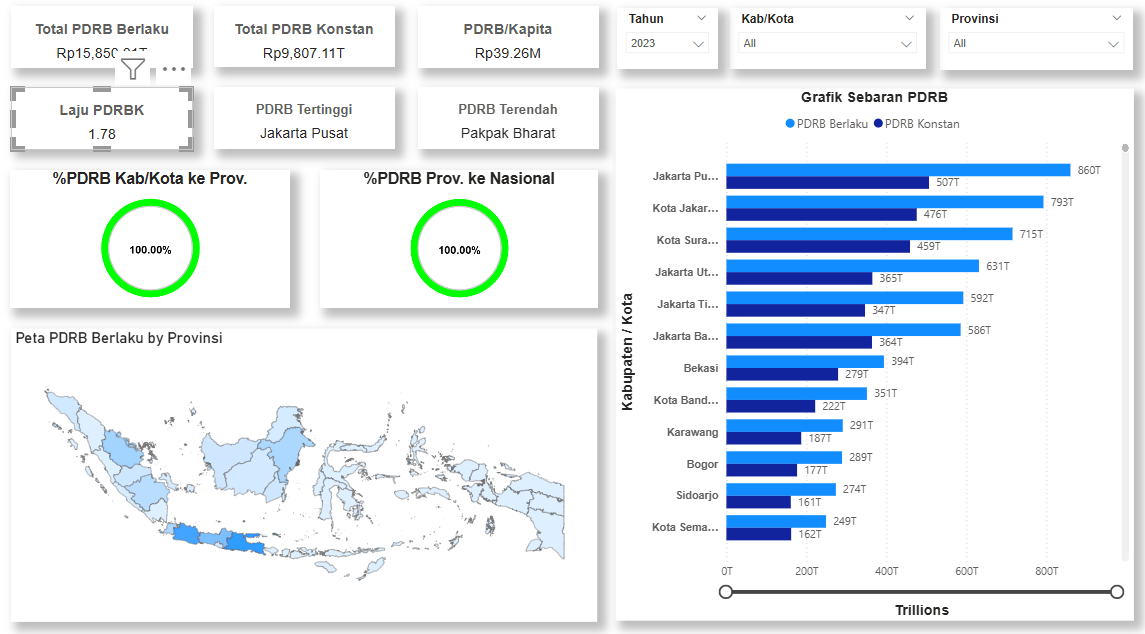

What the dashboard file says about the page in this screenshot:
{"tool":"powerbi","page":{"name":"PDRB per Wilayah","canvas":[1280,720],"ordinal":0},"visuals":[{"type":"cardVisual","fields":{"Data":["Nasional.Total PDRB Berlaku"]},"box":[12.5,7.4,202.5,68.8],"z":0},{"type":"cardVisual","fields":{"Data":["Nasional.Total PDRB Konstan"]},"box":[238.8,7.4,201.2,67.5],"z":1000},{"type":"cardVisual","fields":{"Data":["Nasional.Total PDRB/Kapita"]},"box":[465,7.4,201.2,68.8],"z":2000},{"type":"cardVisual","fields":{"Data":["Nasional.Laju PDRBK"]},"box":[12.5,97.4,202.5,68.8],"z":3000},{"type":"slicer","fields":{"Values":["Pulau Jawa (2).provinsi"]},"box":[1045,7.5,215,70],"z":4000},{"type":"slicer","fields":{"Values":["Pulau Jawa (2).kab/kota"]},"box":[812,8.4,218,68],"z":5000},{"type":"slicer","fields":{"Values":["Nasional.tahun"]},"box":[686,8.4,112,68],"z":6000},{"type":"cardVisual","fields":{"Data":["Nasional.Kab/Kota PDRB Tertinggi"]},"box":[238.8,97.4,201.2,68.8],"z":7000},{"type":"payPalKPIDonutChart55A431AB15A540ED924ACD72ED8D259F","fields":{"myvalue":["Nasional.%PDRB Kab/Kota ke Prov."]},"box":[12,188,312,154],"z":8000},{"type":"payPalKPIDonutChart55A431AB15A540ED924ACD72ED8D259F","fields":{"myvalue":["Nasional.%PDRB Prov. ke Nasional"]},"box":[356.2,187.8,309.3,153.8],"z":9000},{"type":"cardVisual","fields":{"Data":["Nasional.Kab/Kota PDRB Terendah"]},"box":[465,97.4,201.2,68.8],"z":10000},{"type":"clusteredBarChart","title":"Grafik Sebaran PDRB Berlaku","fields":{"Category":["Nasional.kab/kota"],"Y":["Sum(Nasional.pdrb_berlaku)","Sum(Nasional.pdrb_konstan)"]},"box":[685.7,98.6,575.7,591.4],"z":11000},{"type":"shapeMap","fields":{"Category":["Nasional.provinsi"],"Value":["Sum(Nasional.pdrb_berlaku)"]},"box":[12.9,364.3,651.4,325.7],"z":12000}]}

Visuals, with their boxes in screenshot pixels (x1, y1, x2, y2), scaled from the page's 1280x720 canvas onto the 1145x634 screenshot:
cardVisual - Nasional.Total PDRB Berlaku: detection(11, 7, 192, 67)
cardVisual - Nasional.Total PDRB Konstan: detection(214, 7, 394, 66)
cardVisual - Nasional.Total PDRB/Kapita: detection(416, 7, 596, 67)
cardVisual - Nasional.Laju PDRBK: detection(11, 86, 192, 146)
slicer - Pulau Jawa (2).provinsi: detection(935, 7, 1127, 68)
slicer - Pulau Jawa (2).kab/kota: detection(726, 7, 921, 67)
slicer - Nasional.tahun: detection(614, 7, 714, 67)
cardVisual - Nasional.Kab/Kota PDRB Tertinggi: detection(214, 86, 394, 146)
payPalKPIDonutChart55A431AB15A540ED924ACD72ED8D259F - Nasional.%PDRB Kab/Kota ke Prov.: detection(11, 166, 290, 301)
payPalKPIDonutChart55A431AB15A540ED924ACD72ED8D259F - Nasional.%PDRB Prov. ke Nasional: detection(319, 165, 595, 301)
cardVisual - Nasional.Kab/Kota PDRB Terendah: detection(416, 86, 596, 146)
"Grafik Sebaran PDRB Berlaku" clusteredBarChart: detection(613, 87, 1128, 608)
shapeMap - Nasional.provinsi x Sum(Nasional.pdrb_berlaku): detection(12, 321, 594, 608)
